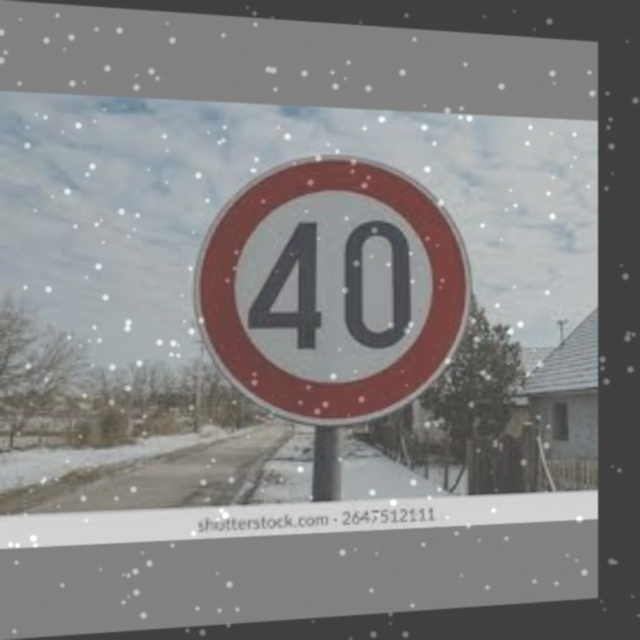Speed_Limit_40: (206, 153, 468, 423)
